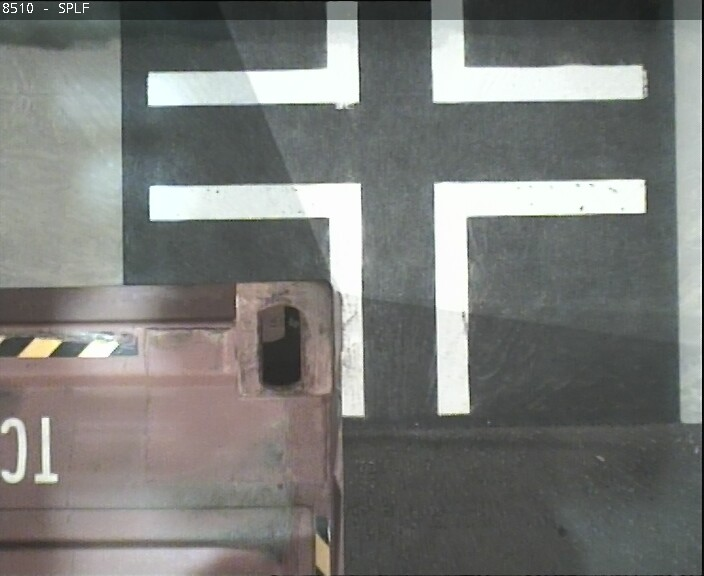groundmarker_1: (149, 182, 641, 411)
